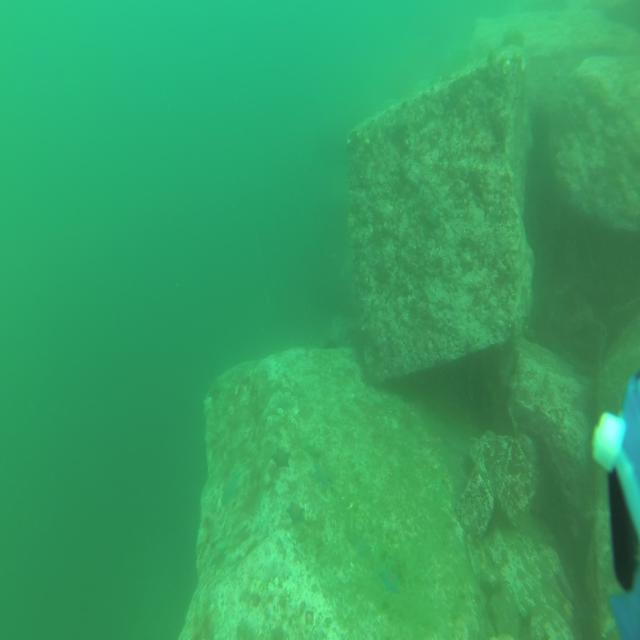starfish: (378, 560, 402, 595), (502, 22, 527, 49), (219, 474, 240, 506), (313, 458, 335, 488), (285, 500, 307, 527), (269, 447, 292, 472)
